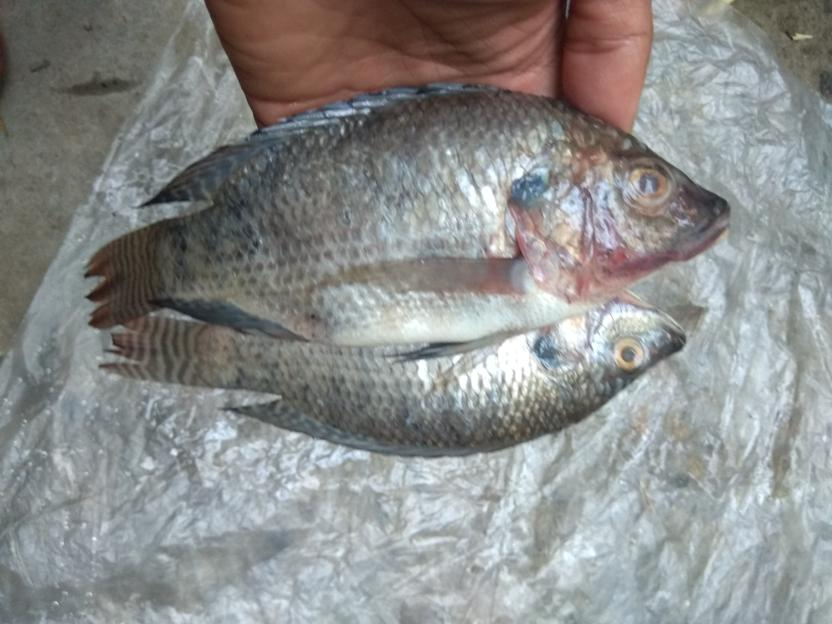Fish head: (511, 137, 733, 317), (535, 291, 689, 414)
Fish tail: (100, 308, 241, 391), (81, 217, 180, 330)
